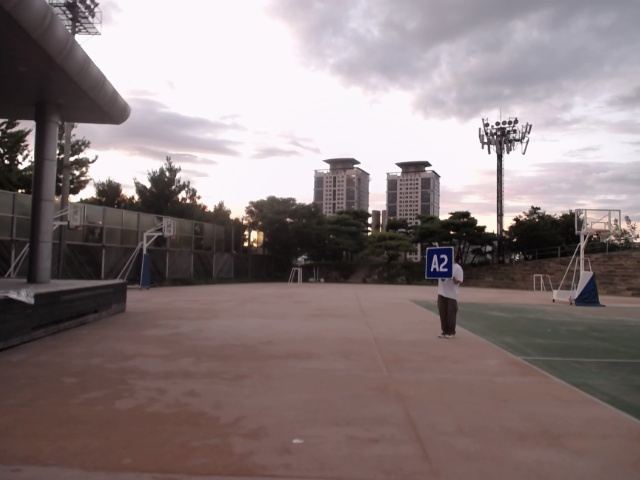delivery_a2: (426, 247, 453, 278)
